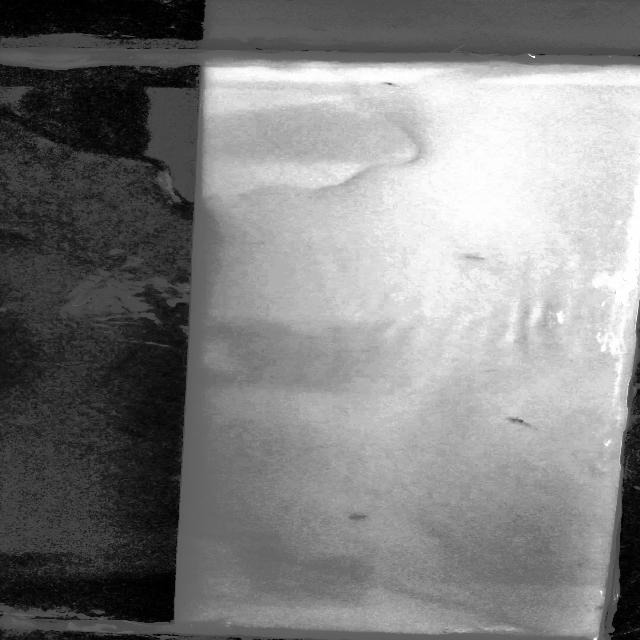shrimp: (497, 412, 546, 434), (371, 76, 407, 89)
